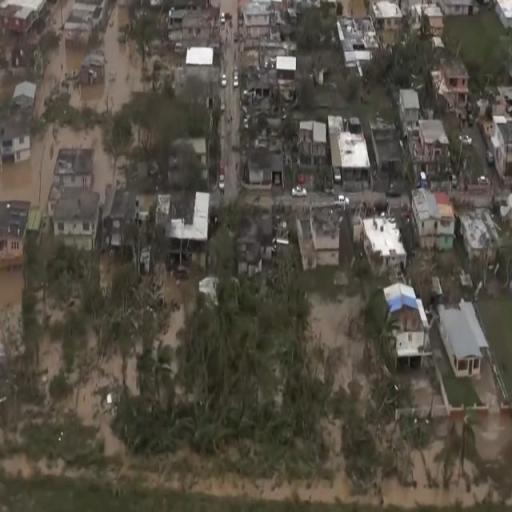flood: (0, 328, 512, 508), (0, 0, 151, 209), (307, 296, 365, 396), (153, 278, 202, 381), (0, 271, 26, 359), (38, 281, 78, 319)
house: (378, 278, 431, 366), (296, 202, 346, 275), (438, 304, 485, 380), (48, 188, 102, 254), (0, 89, 36, 169), (330, 115, 368, 189), (360, 213, 406, 270), (413, 188, 453, 252), (237, 140, 286, 192), (336, 14, 377, 72), (0, 198, 30, 274), (296, 117, 329, 183), (415, 114, 451, 172), (52, 146, 98, 187), (0, 0, 47, 38), (444, 49, 470, 108), (489, 116, 512, 180), (438, 1, 478, 18), (492, 0, 511, 34)
